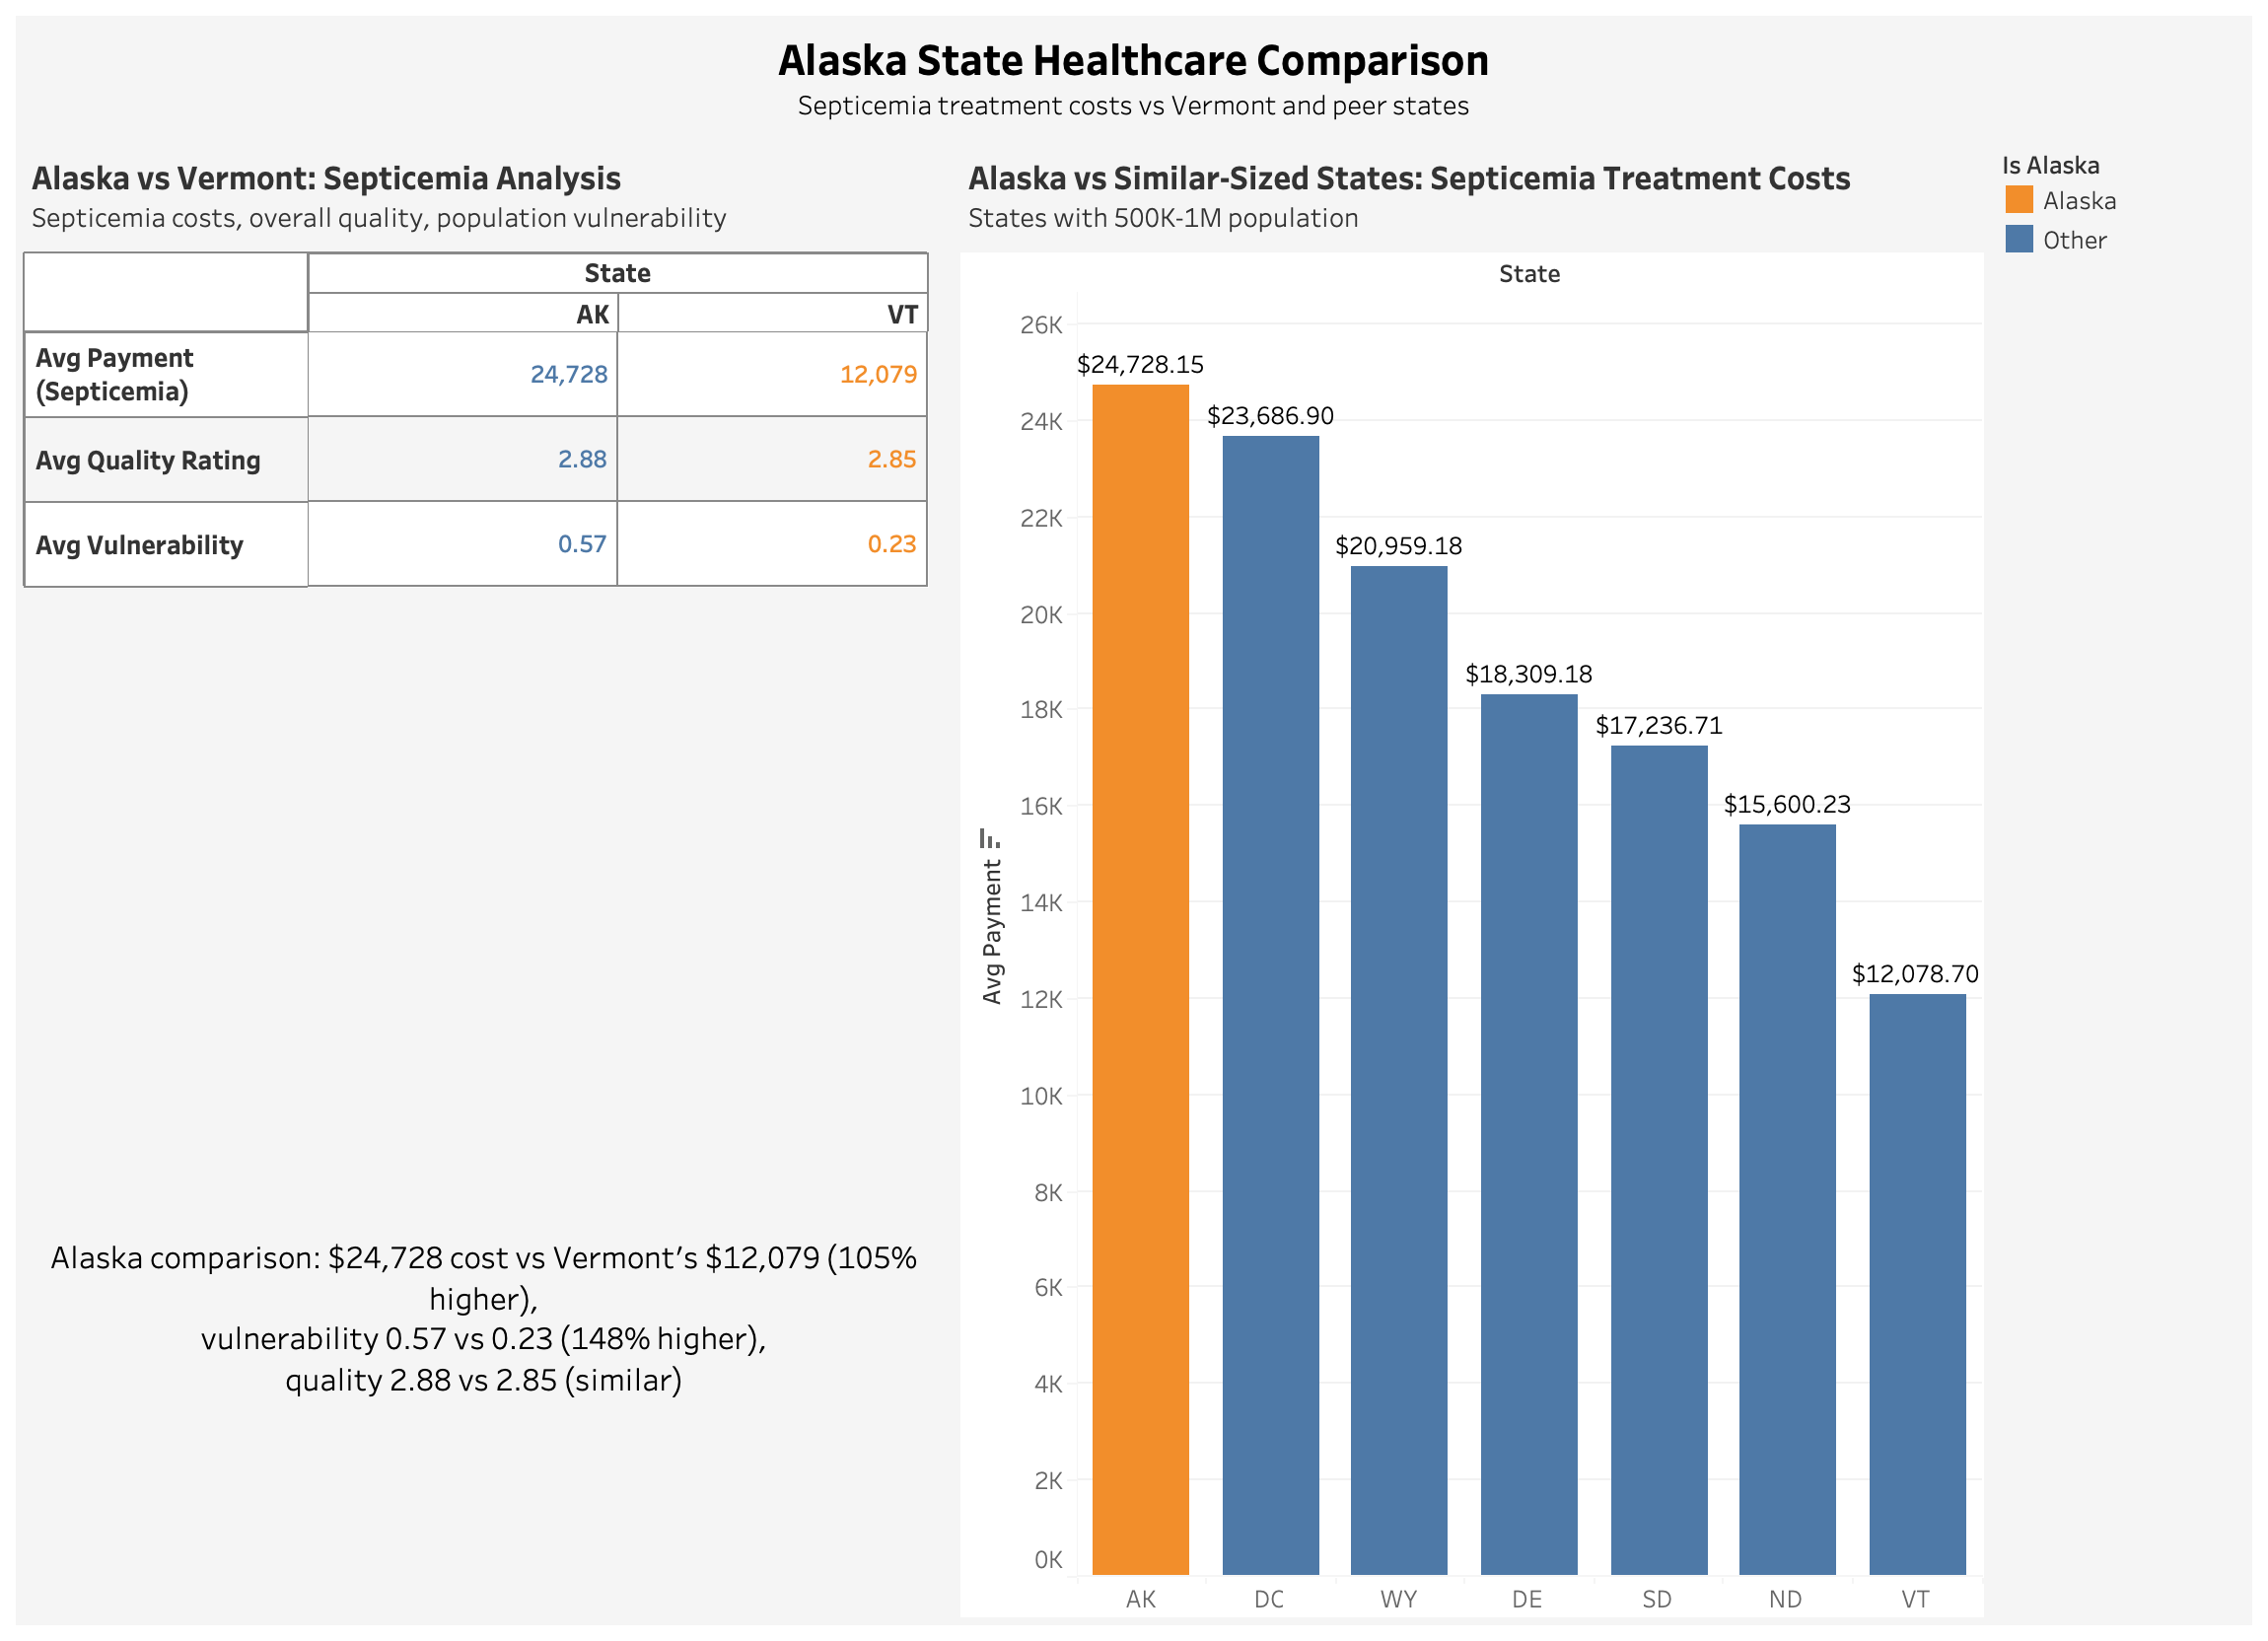

Layout of this report page (visuals, bound fields, positions):
{"tool":"tableau","page":{"name":"Dashboard 3 - Alaska Deep Dive","canvas":[1000,1000],"units":"permille","ordinal":2},"visuals":[{"type":"text","box":[7,9.6,986.1,73.3]},{"type":"worksheet","title":"Table - AK vs VT Comparison","mark":"Text","cols":["state"],"box":[7,83,413,533.8]},{"type":"worksheet","title":"Bar - AK vs Similar States","mark":"Automatic","rows":["avg_payment"],"cols":["state"],"box":[420,83,458.3,907.4]},{"type":"legend","title":"Bar - AK vs Similar States","param":"[federated.01g39c90tg538c18ujf520binokb].[none:Calculation_4771105375203328:nk]","box":[878.3,83,114.8,79.3]},{"type":"text","box":[7,616.8,413,373.6]}]}

Visuals, with their boxes on the dashboard's canvas, which has no fixed pixel size, in thousandths of its width and height (x1, y1, x2, y2). These are canvas units, not pixel positions in the 2268x1641 screenshot, which may show the page scaled, cropped or inside an application window:
text: pyautogui.locateOnScreen(7, 10, 993, 83)
"Table - AK vs VT Comparison" worksheet (Text marks): pyautogui.locateOnScreen(7, 83, 420, 617)
"Bar - AK vs Similar States" worksheet: pyautogui.locateOnScreen(420, 83, 878, 990)
"Bar - AK vs Similar States" legend: pyautogui.locateOnScreen(878, 83, 993, 162)
text: pyautogui.locateOnScreen(7, 617, 420, 990)
